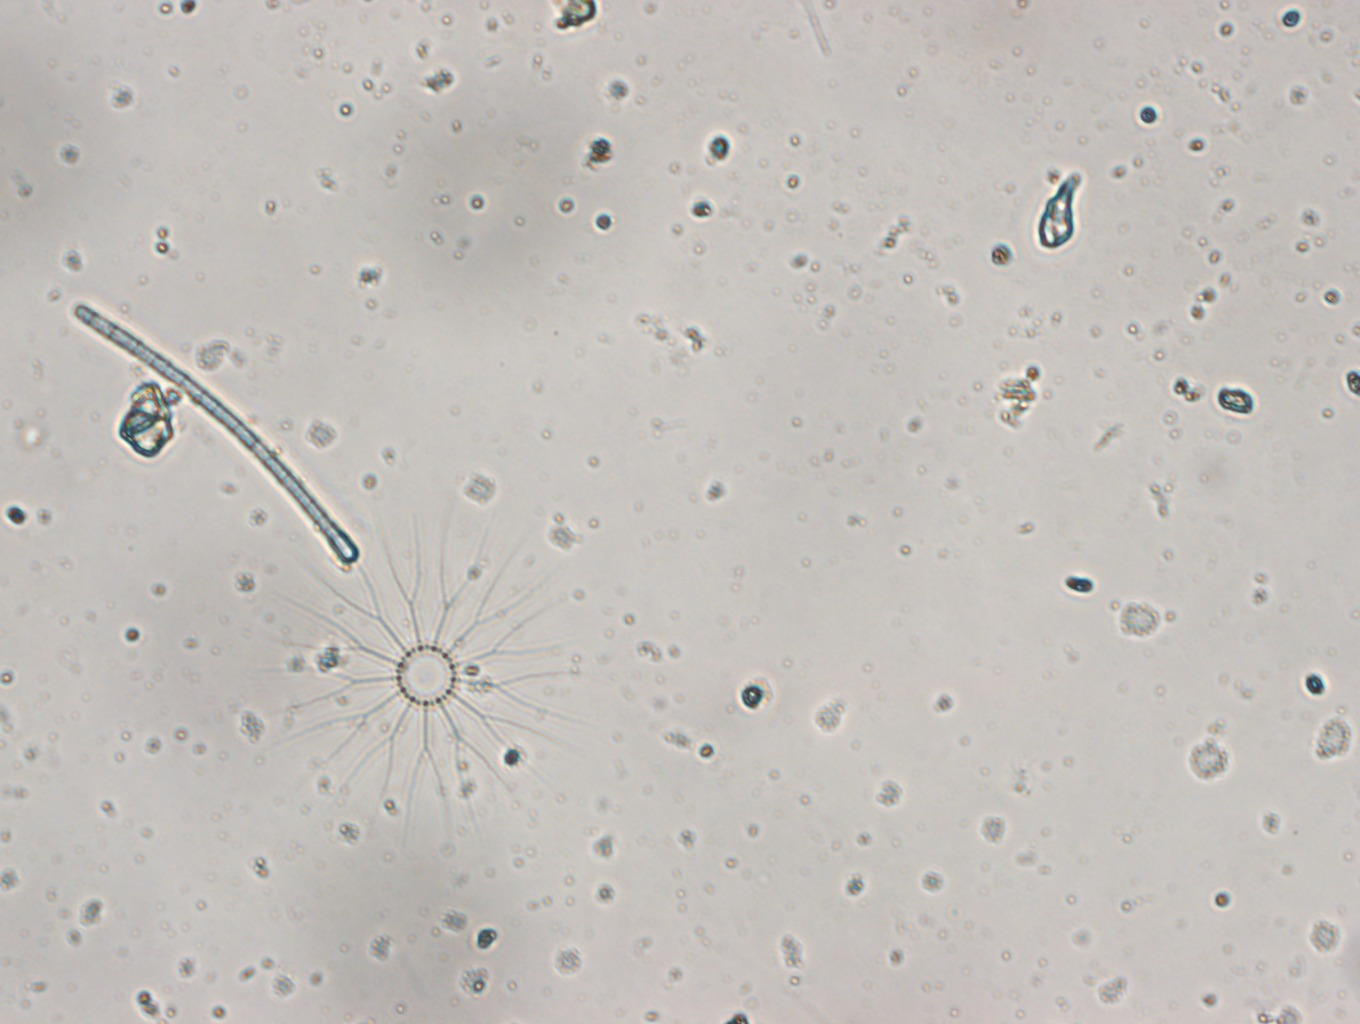bacteriastrum: (278, 523, 592, 842)
